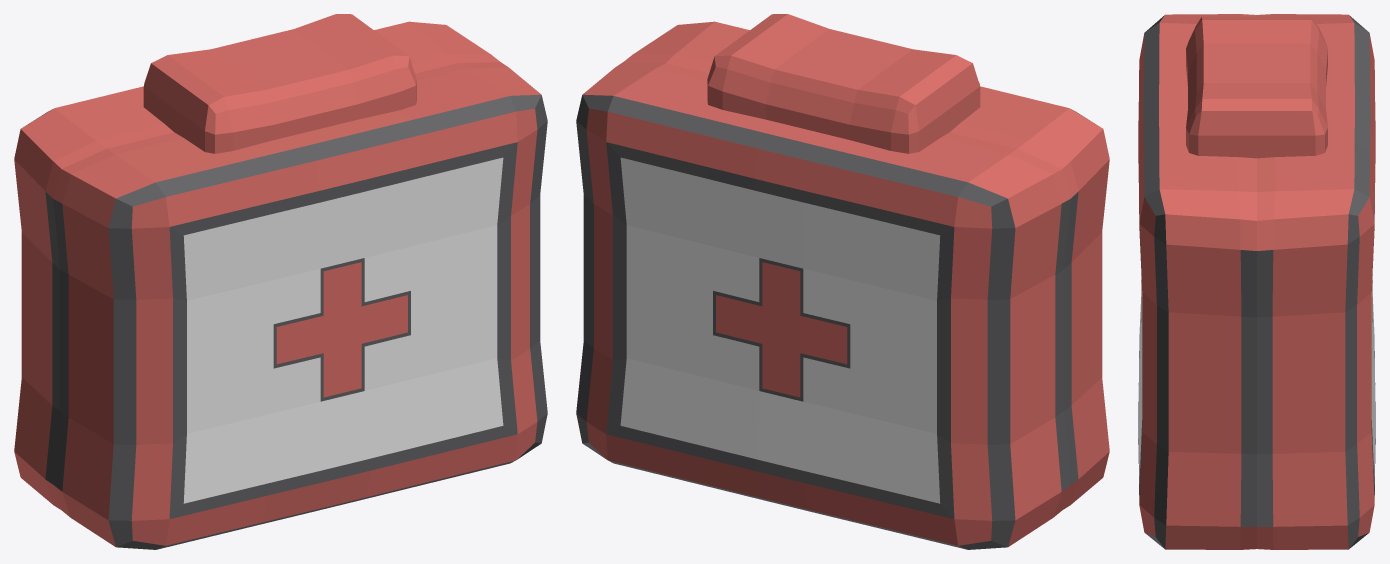
The model's file is firstaidkit.glb.
3 views of the same model, side by side, from view 1: azimuth 30°, elevation 25°; view 2: azimuth 150°, elevation 25°; view 3: azimuth 270°, elevation 25° (orthographic). The views are drawn at different scales.
Parts seen in each view (by area): view 1: FirstAidKit; view 2: FirstAidKit; view 3: FirstAidKit.
Part boxes in pixels (left/top/right/bottom): FirstAidKit: left=14, top=14, right=547, bottom=549; FirstAidKit: left=576, top=14, right=1109, bottom=549; FirstAidKit: left=1138, top=14, right=1375, bottom=549.
Size of the model in its own units: 1.56 by 1.36 by 0.7333.
